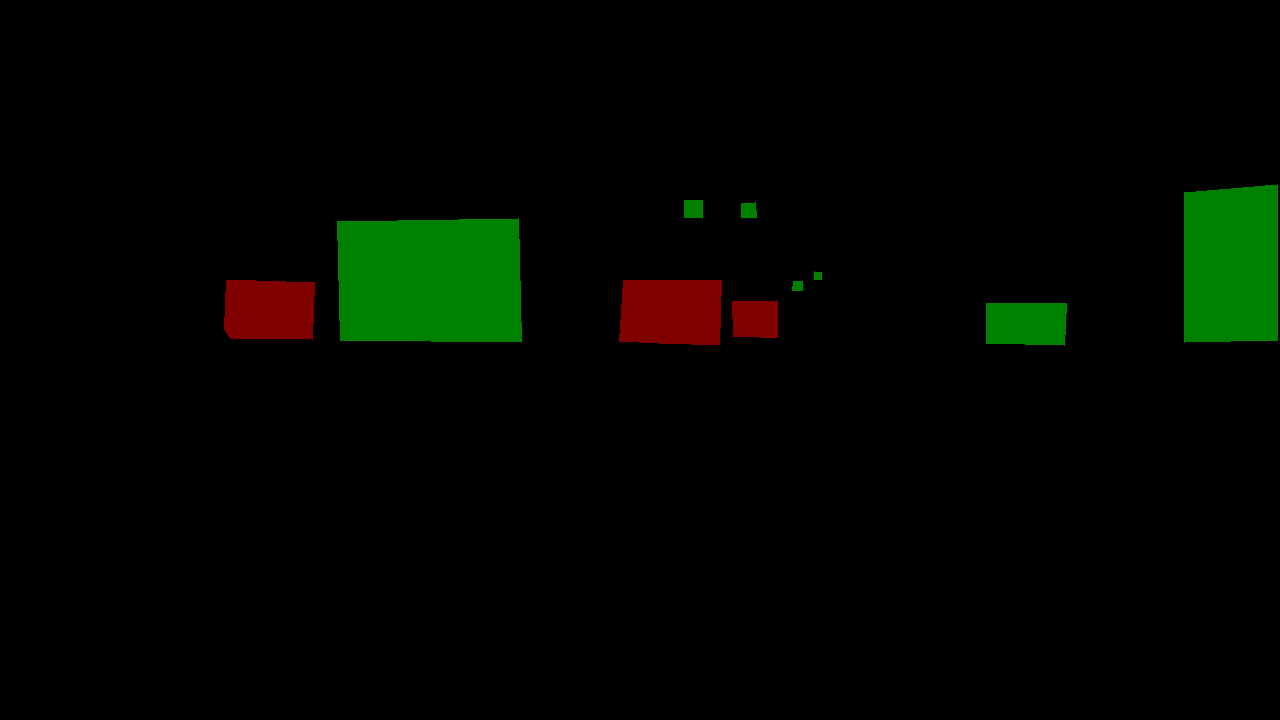sign: (684, 200, 702, 218), (741, 202, 756, 218), (792, 281, 802, 290), (814, 271, 821, 279)
tvmonitor: (337, 218, 521, 342), (1184, 184, 1277, 342), (619, 280, 721, 344), (224, 279, 314, 339), (986, 303, 1066, 345), (732, 300, 777, 337)
